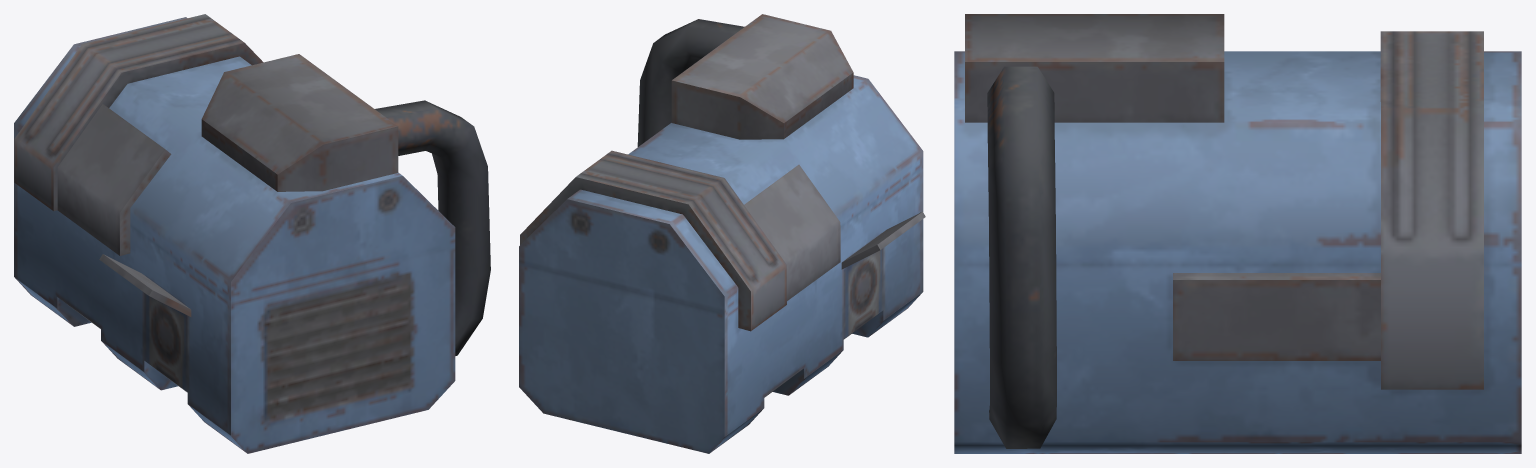
Rendered from SM_GeneratorBox.fbx.
The picture shows the model from 3 angles, left to right: view 1: azimuth 30°, elevation 25°; view 2: azimuth 150°, elevation 25°; view 3: azimuth 270°, elevation 25°; orthographic projection. The views are drawn at different scales.
Parts seen in each view (by area): view 1: MAT_Street_01_new; view 2: MAT_Street_01_new; view 3: MAT_Street_01_new.
Boxes of the visible parts, left/top/right/bottom form: MAT_Street_01_new: left=14, top=14, right=490, bottom=453; MAT_Street_01_new: left=519, top=14, right=925, bottom=453; MAT_Street_01_new: left=954, top=14, right=1521, bottom=453.
Size of the model in its own units: 0.969 by 0.8233 by 1.13.
Materials: 1 (1 with a texture image).
